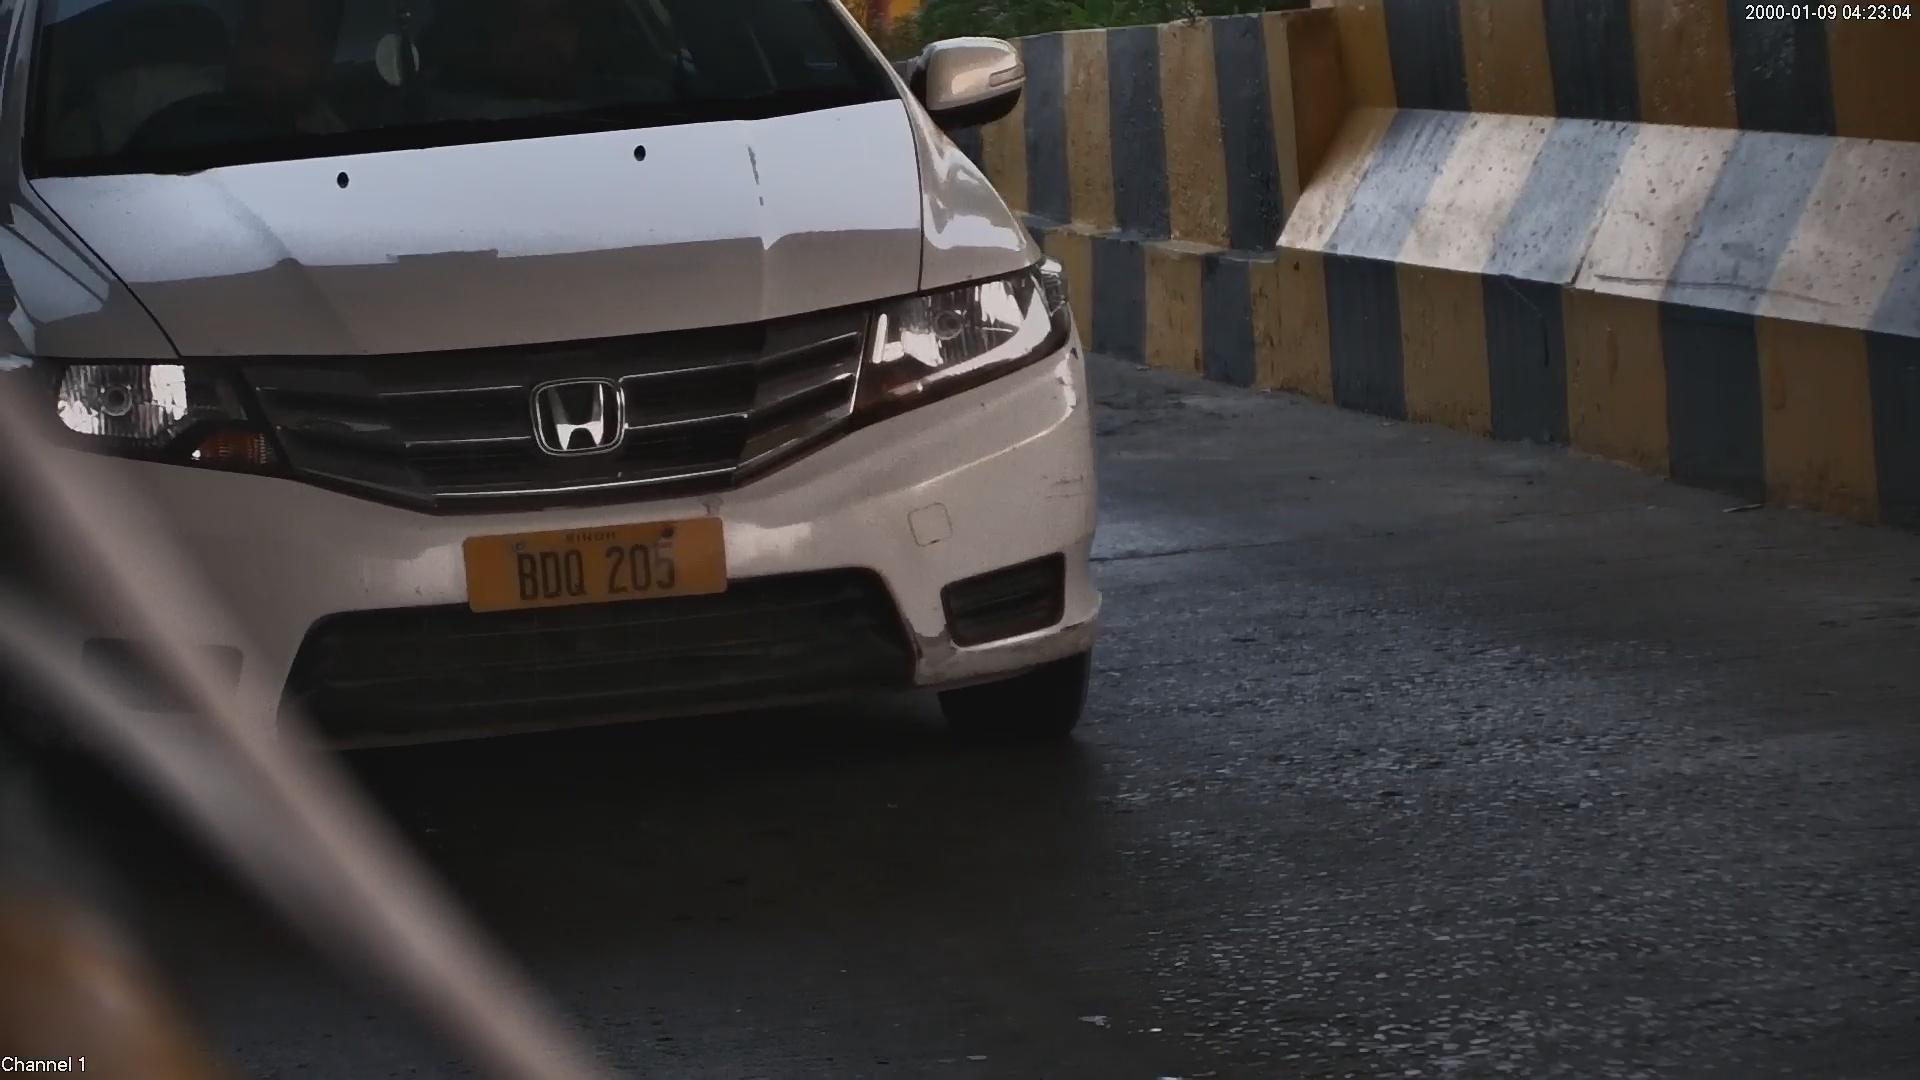Number_Plate: (445, 518, 743, 609)
Undefined: (878, 273, 1073, 396), (52, 364, 245, 470), (526, 381, 630, 457)
